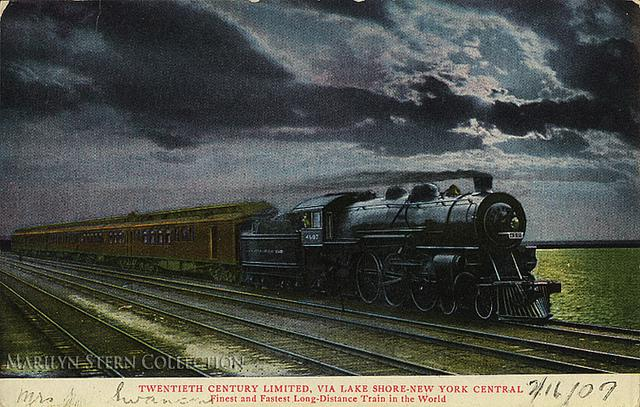Train: (14, 173, 562, 322)
